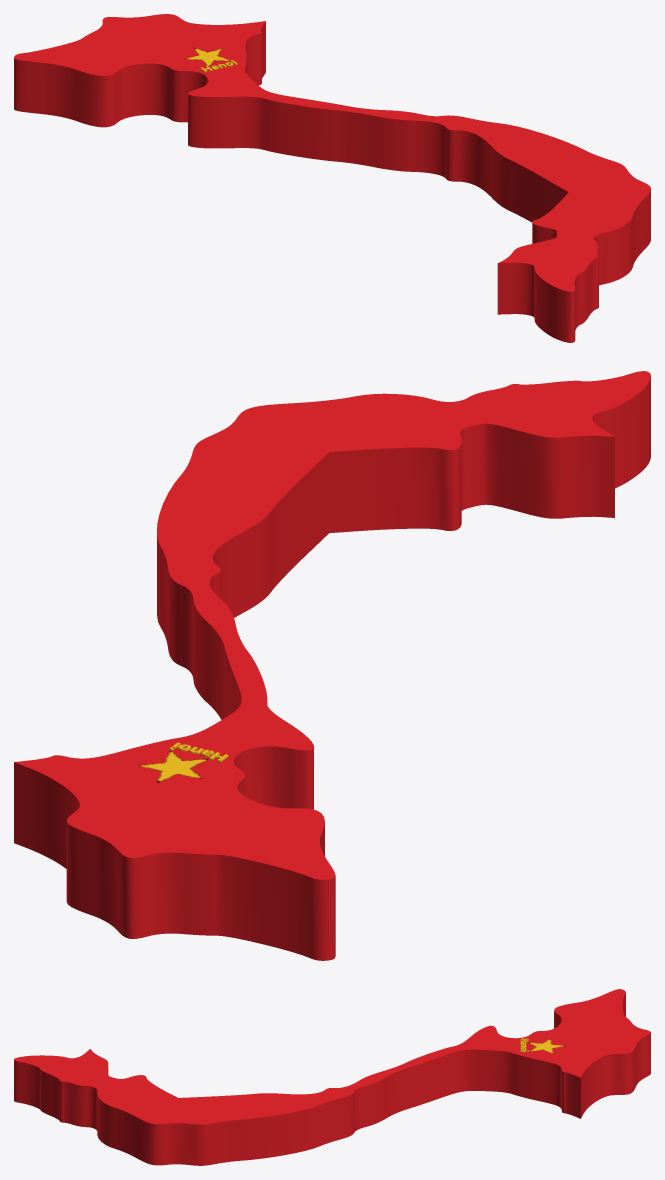
The model's file is vietnam.glb.
3 renders of one model, top to bottom at view 1: azimuth 30°, elevation 25°; view 2: azimuth 150°, elevation 25°; view 3: azimuth 270°, elevation 25°, orthographic. The views are drawn at different scales.
Parts seen in each view (by area): view 1: node_id3_2; view 2: node_id3_2; view 3: node_id3_2.
Boxes of the visible parts, x1=… form: node_id3_2: x1=14, y1=14, x2=650, y2=342; node_id3_2: x1=14, y1=371, x2=650, y2=960; node_id3_2: x1=14, y1=989, x2=650, y2=1165.
Bounding box in the file's own units: 0.512 × 0.0739 × 1.02.
Materials: 2 (2 with a texture image).
